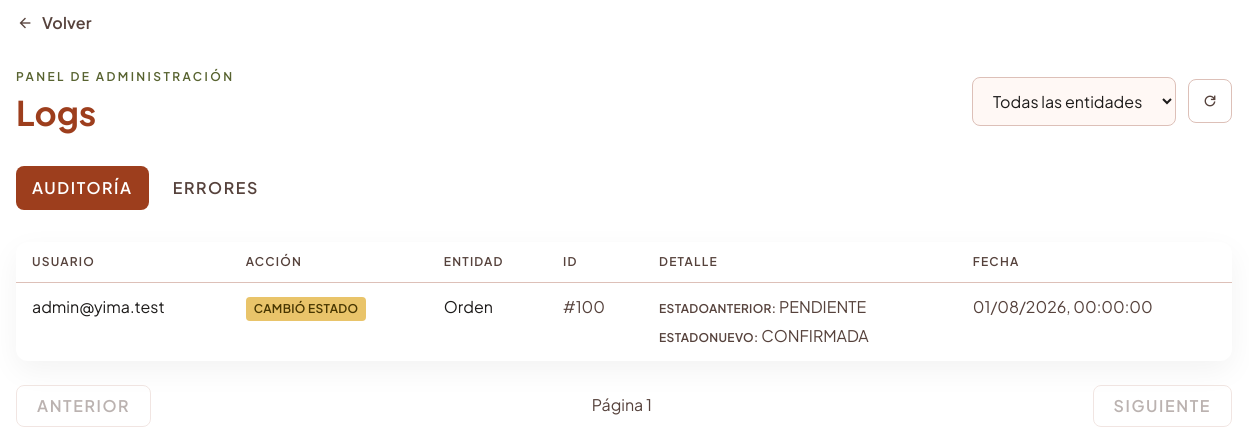
Test: AdminLogs › al cambiar a la pestaña Errores carga el feed de errores
Check: the text "admin@yima.test" is shown, box [16, 283, 230, 361]
Click the button "Errores": (216, 188) [157, 166, 275, 210]
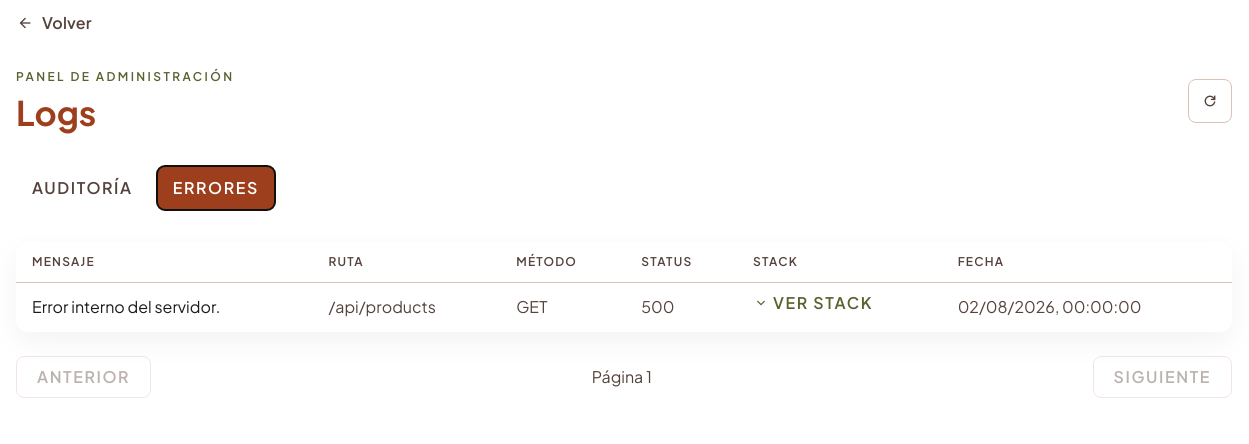
Check: the text "Error interno del servidor." is shown, box [16, 283, 312, 332]
Check: the text "500" is shown, box [625, 283, 737, 332]
